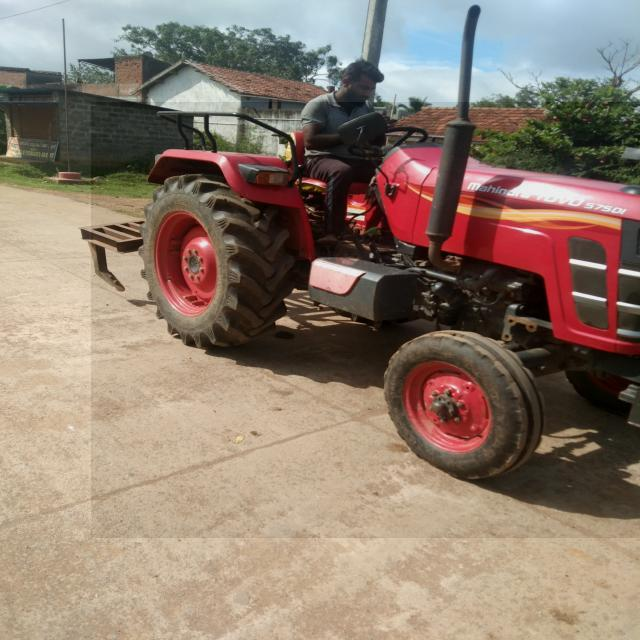Tractot: (91, 102, 640, 538)
